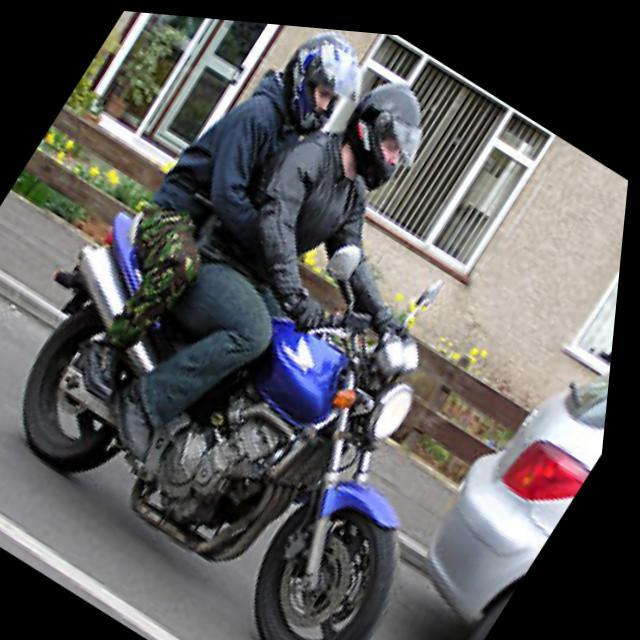Helmet: (262, 26, 364, 143), (334, 72, 430, 196)
